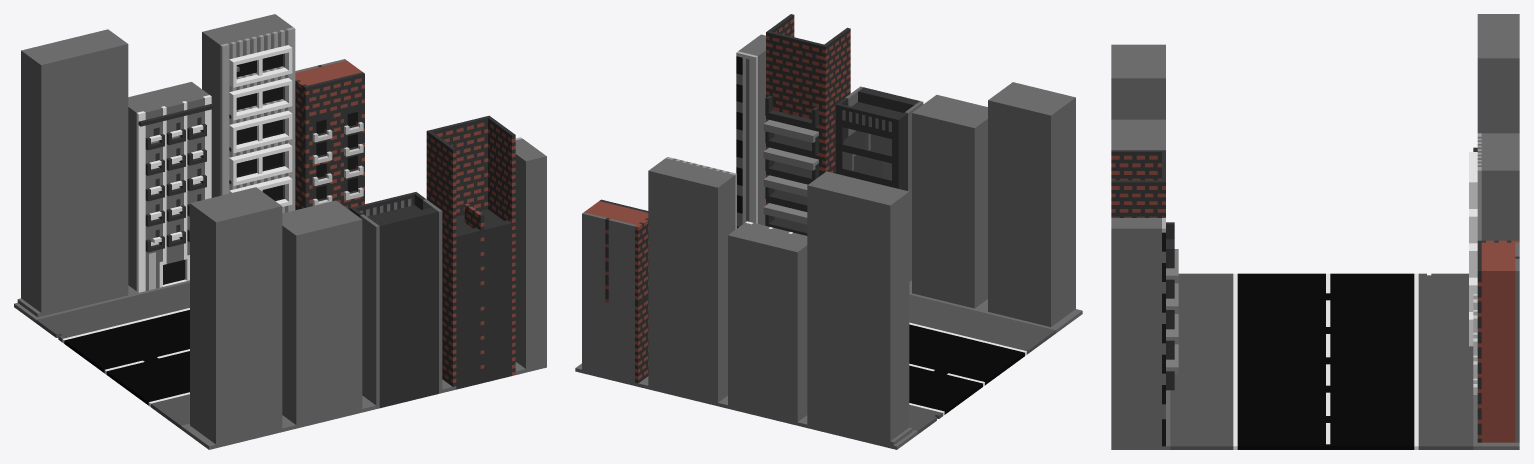
Rendered from strret 1.obj.
3 views of the same model, side by side, from view 1: azimuth 30°, elevation 25°; view 2: azimuth 150°, elevation 25°; view 3: azimuth 270°, elevation 25° (orthographic). The views are drawn at different scales.
Size of the model in its own units: 9.7 by 7 by 9.7.
1 material, 1 textured.
